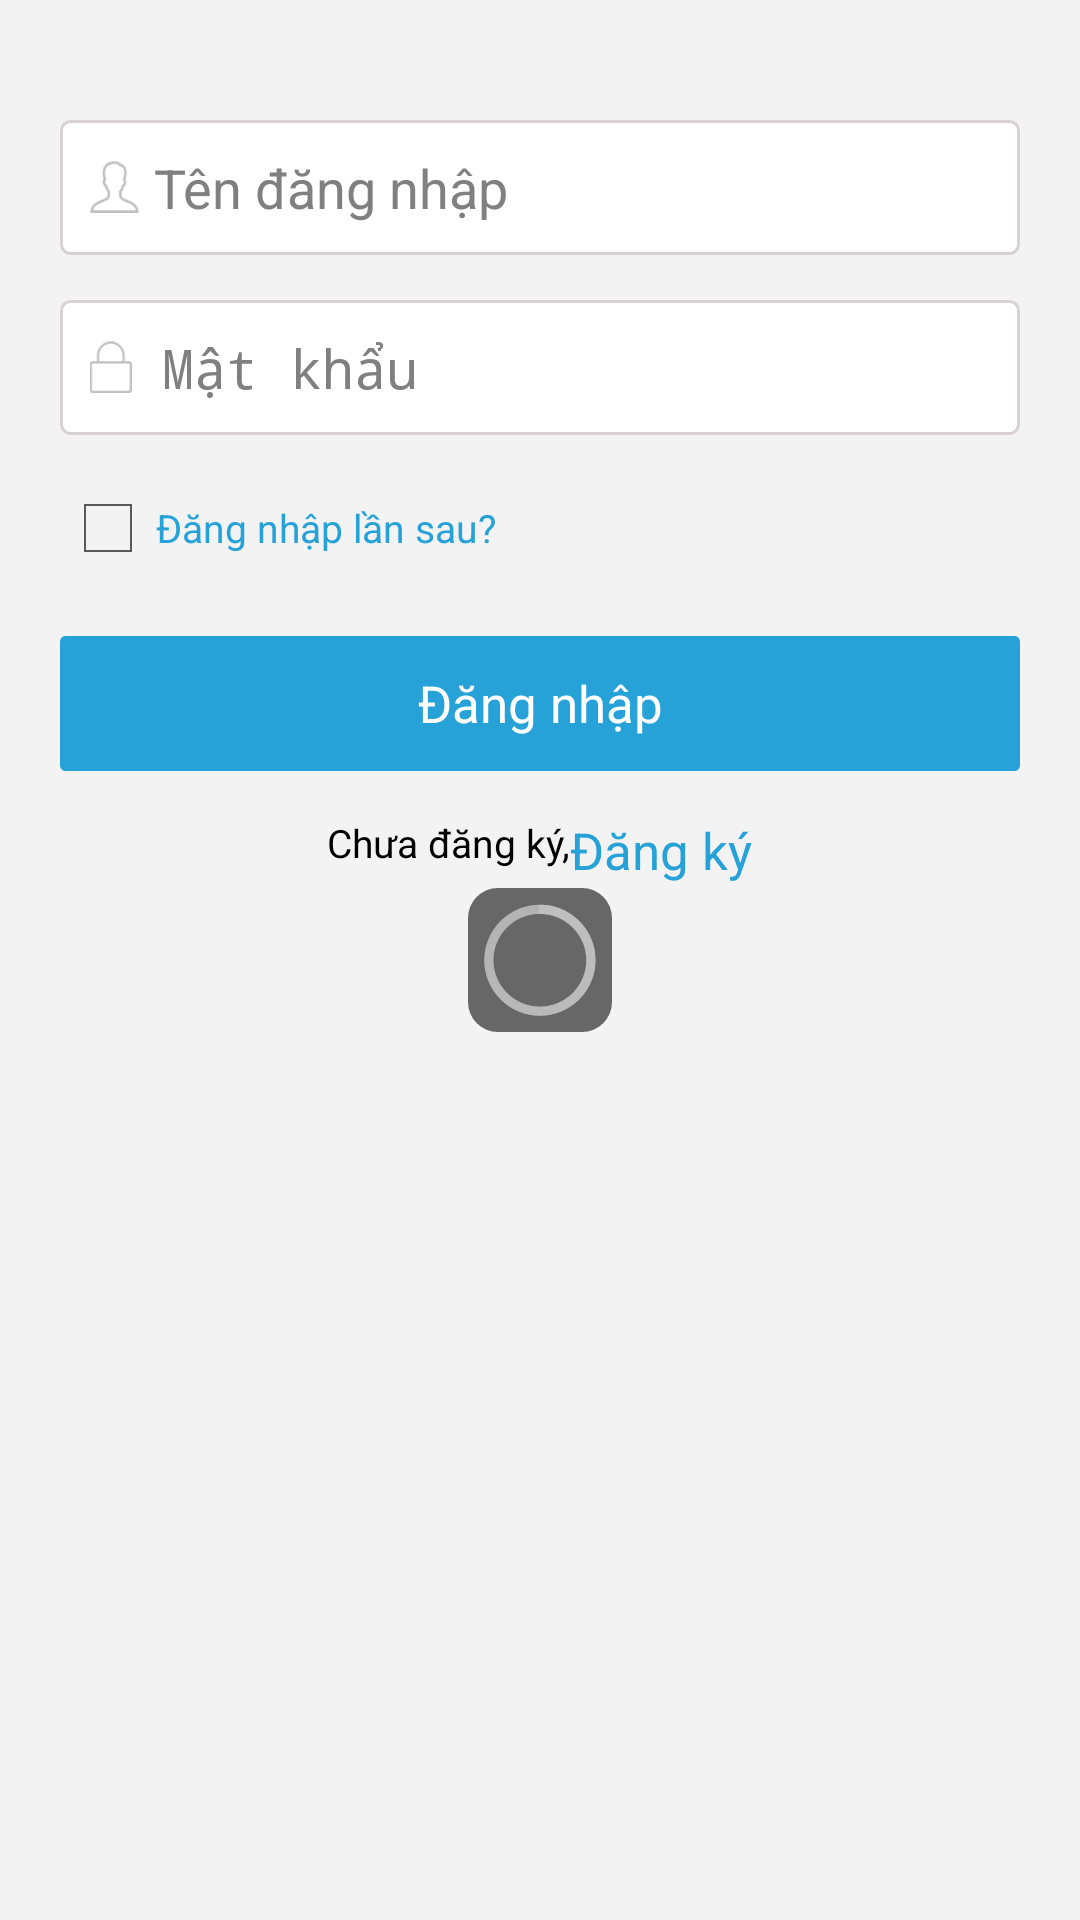

Icon bounding boxes for this 1080px×1920px phone screenshot, format (x1, y1, x2, y2):
password: (90, 341, 132, 393)
user: (90, 161, 139, 213)
